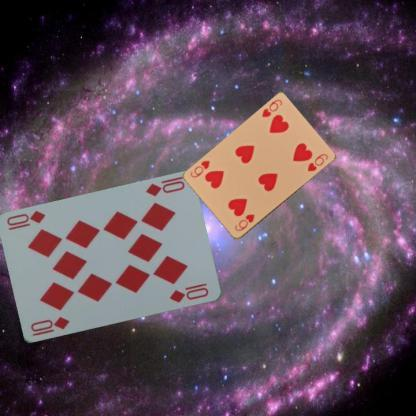10d: (142, 174, 186, 198), (28, 314, 70, 338)
6h: (259, 97, 284, 119), (232, 211, 256, 233)
